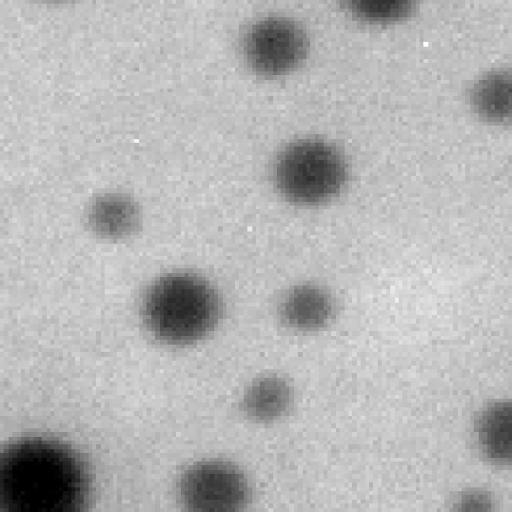Nanoparticles: (0, 432, 95, 512), (142, 265, 226, 350), (270, 136, 359, 206), (240, 17, 315, 82), (174, 451, 248, 512), (238, 368, 303, 428), (84, 186, 146, 242), (278, 280, 340, 336), (474, 395, 512, 469), (466, 66, 512, 123), (452, 486, 494, 512)
